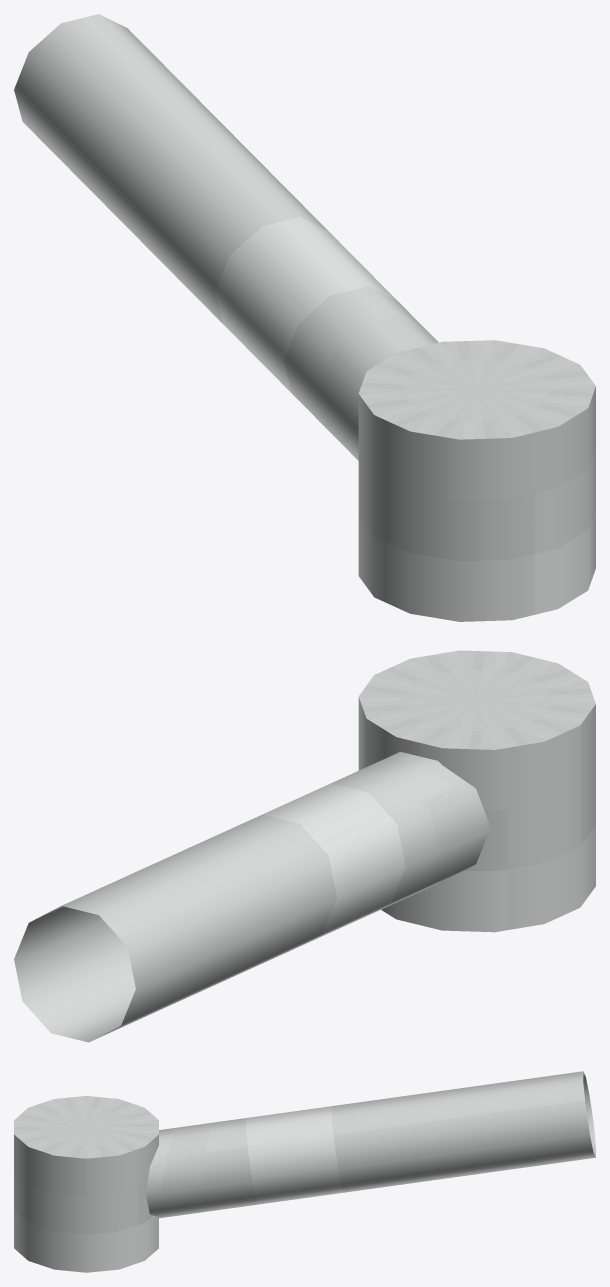
File: trusssignalarm_level8_c1_pedestal.obj
3 views of the same model, one above another, from view 1: azimuth 30°, elevation 25°; view 2: azimuth 150°, elevation 25°; view 3: azimuth 270°, elevation 25° (orthographic). The views are drawn at different scales.
Visible parts, largest first — view 1: trusssignalarm_level8_c1_pedestal; view 2: trusssignalarm_level8_c1_pedestal; view 3: trusssignalarm_level8_c1_pedestal.
Part boxes in pixels (box(x1,y1,x2,y2)): trusssignalarm_level8_c1_pedestal: box(14, 14, 595, 621); trusssignalarm_level8_c1_pedestal: box(14, 650, 595, 1042); trusssignalarm_level8_c1_pedestal: box(14, 1071, 595, 1272).
Size of the model in its own units: 0.4438 by 0.5406 by 1.74.
